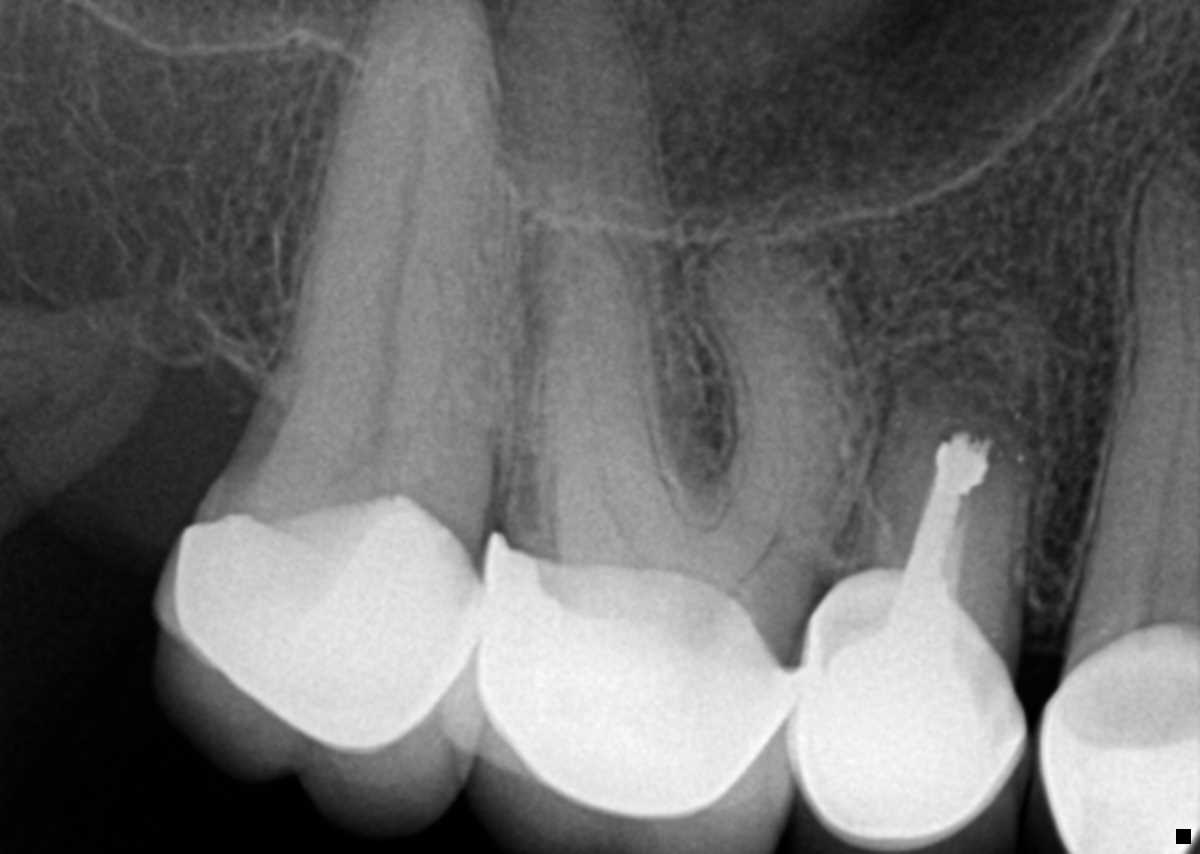Apical Lesion: (885, 289, 1046, 422)
Distal Root: (518, 211, 672, 512)
Main Canal: (365, 13, 431, 447), (1135, 193, 1193, 600)
Main Root: (255, 0, 518, 480), (1071, 162, 1200, 602), (845, 369, 1039, 618)
Mesial Canal: (727, 403, 783, 596)
Mesial Root: (693, 219, 865, 547)
Palatal Canal: (555, 19, 588, 215)
Palatal Root: (502, 0, 717, 519)
Root Canal Filling: (902, 495, 963, 596)
